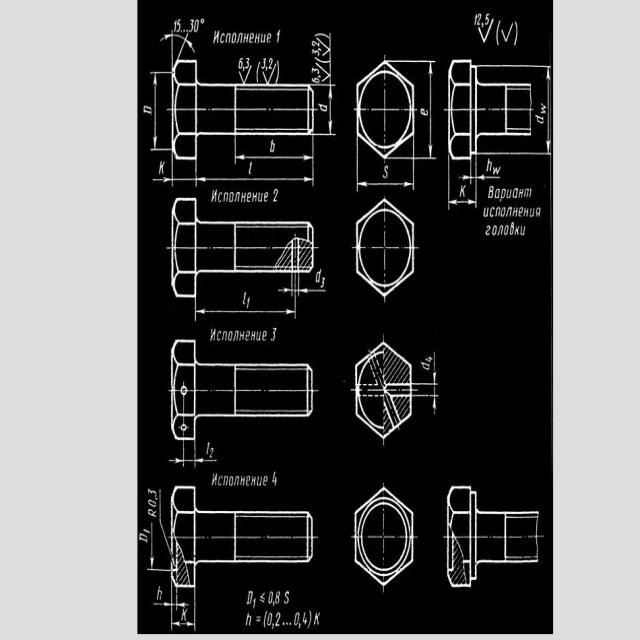marking_line: (151, 162, 318, 188), (233, 136, 316, 168), (353, 160, 418, 195), (194, 300, 299, 321), (416, 60, 437, 162), (151, 588, 199, 632), (443, 160, 481, 215), (148, 69, 172, 152), (532, 65, 552, 159), (412, 350, 438, 418), (167, 442, 221, 469), (145, 521, 170, 573), (314, 83, 337, 138), (156, 489, 171, 569), (277, 275, 328, 298), (159, 31, 196, 60), (461, 160, 480, 211), (412, 350, 438, 386), (446, 160, 463, 214), (152, 589, 191, 610), (474, 155, 501, 182), (412, 394, 439, 417), (459, 160, 473, 185)
numeric: (318, 101, 329, 113), (293, 610, 300, 626), (142, 104, 152, 115), (275, 612, 282, 627), (270, 326, 277, 341), (269, 138, 276, 153), (158, 160, 165, 175), (382, 165, 389, 180), (156, 585, 162, 602), (147, 499, 157, 509), (420, 106, 429, 117), (267, 590, 274, 603), (176, 19, 183, 32), (302, 612, 308, 627), (272, 471, 278, 486), (275, 29, 281, 44), (267, 613, 273, 627), (275, 590, 281, 604), (272, 188, 278, 202), (244, 58, 251, 70), (193, 20, 200, 32), (247, 161, 253, 175), (147, 488, 156, 497), (284, 591, 290, 604), (261, 57, 267, 70), (189, 20, 195, 33), (485, 12, 491, 25), (311, 48, 320, 56), (268, 56, 273, 70), (209, 446, 214, 459), (238, 57, 243, 70), (473, 12, 478, 25), (311, 77, 320, 84), (312, 40, 320, 47), (477, 14, 482, 25), (311, 68, 320, 74), (142, 529, 150, 535), (173, 18, 176, 33)
special_symbol: (477, 17, 493, 43), (314, 64, 329, 82), (261, 64, 276, 82), (501, 23, 513, 43), (316, 37, 329, 55), (238, 66, 251, 83), (512, 19, 520, 45), (274, 61, 280, 84), (496, 20, 501, 45), (314, 57, 330, 64), (314, 32, 330, 39), (255, 61, 260, 83), (262, 611, 268, 628), (307, 609, 312, 629), (259, 591, 266, 603), (256, 614, 261, 623)
